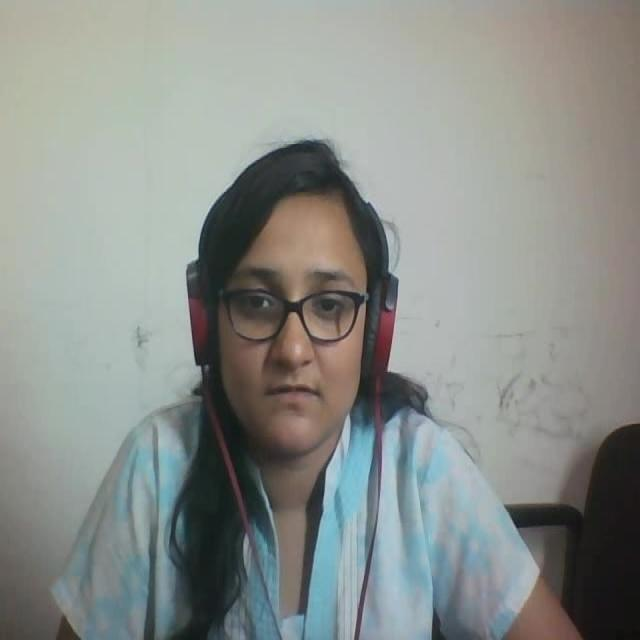Engaged: (161, 101, 417, 482)
